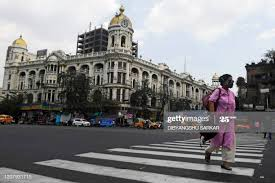mask: (219, 73, 235, 89)
